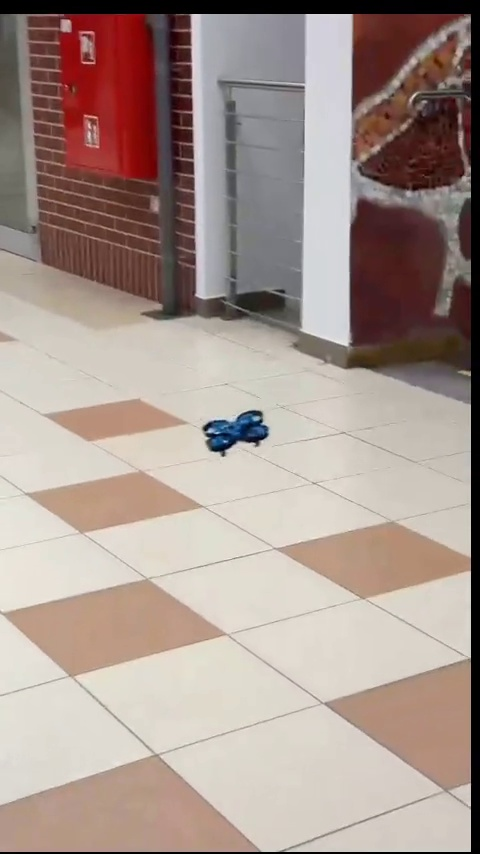drone: (204, 411, 268, 452)
